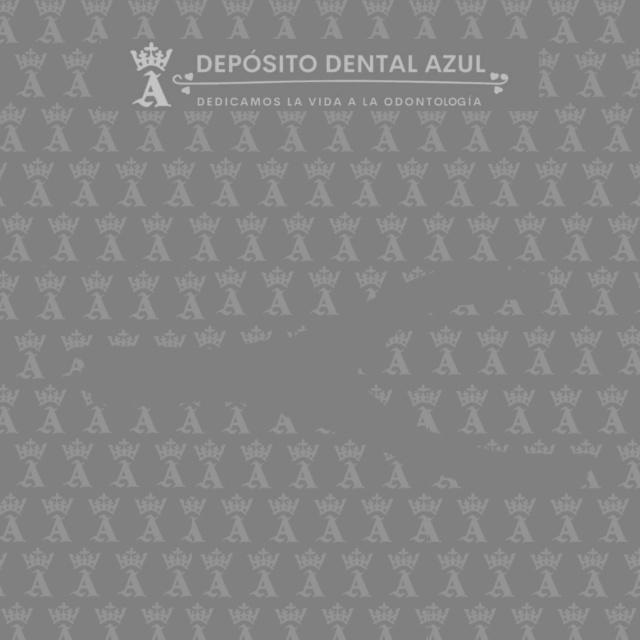gubia: (60, 266, 591, 493)
